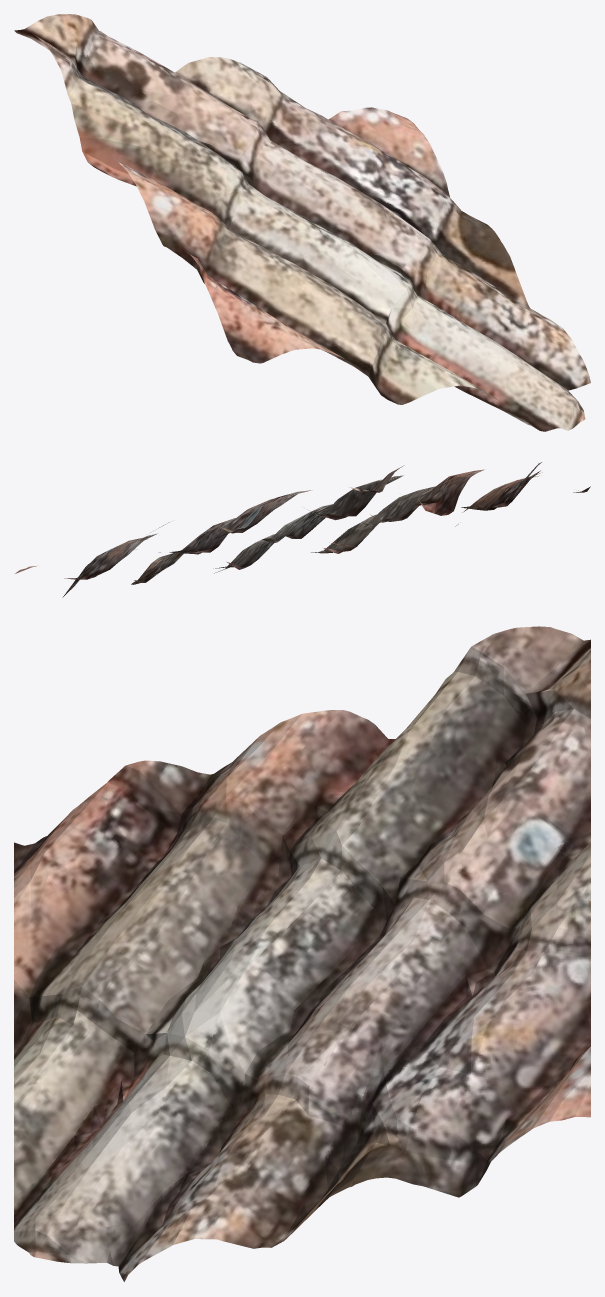
3 renders of one model, top to bottom at view 1: azimuth 30°, elevation 25°; view 2: azimuth 150°, elevation 25°; view 3: azimuth 270°, elevation 25°, orthographic. The views are drawn at different scales.
Bounding box in the file's own units: 0.8374 × 0.6601 × 0.8374.
3 materials, 3 textured.
